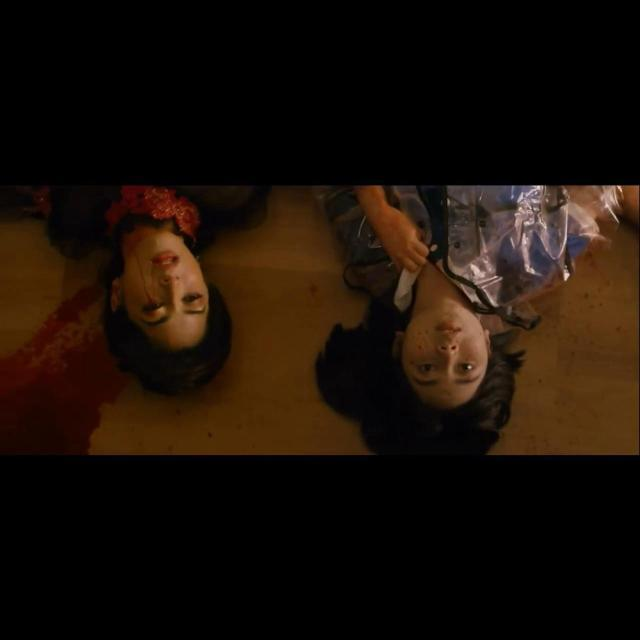blood: (0, 288, 124, 454), (106, 186, 208, 350)
